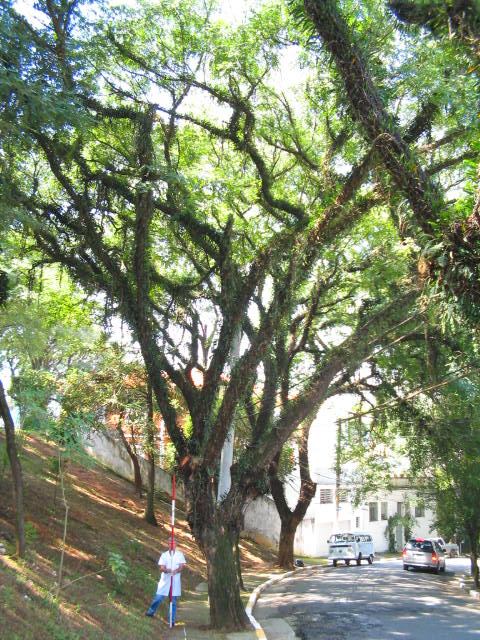stem: (187, 514, 259, 632), (268, 520, 302, 568)
stick: (165, 474, 178, 628)
tree: (2, 1, 478, 633)
